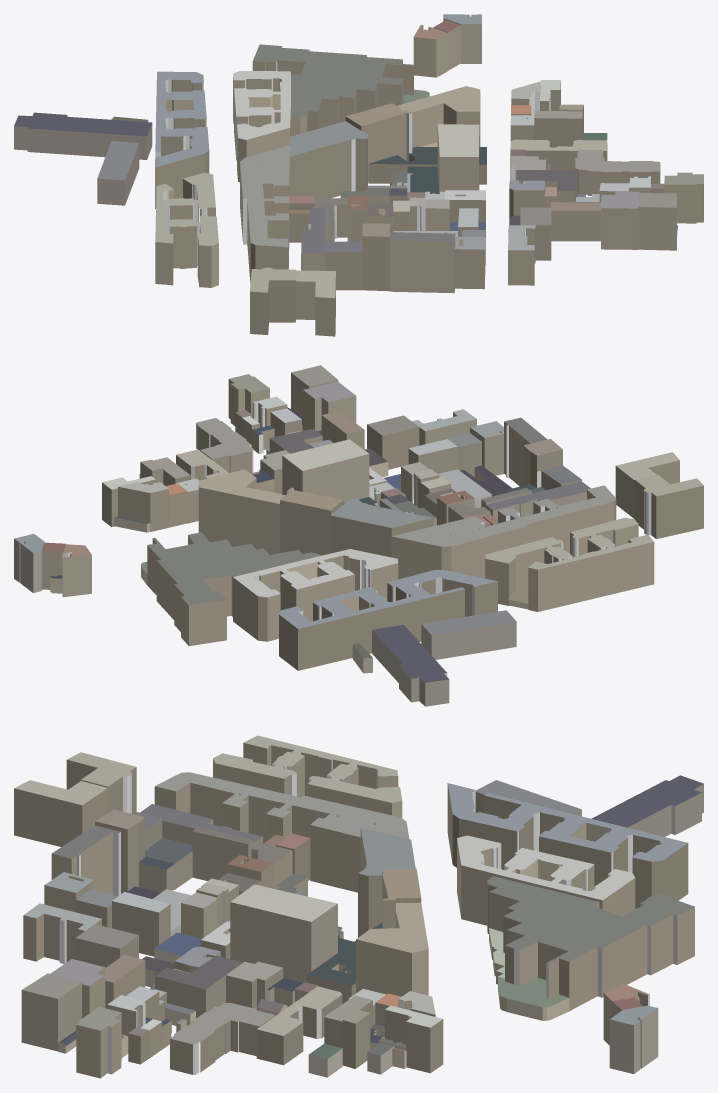
3 renders of one model, top to bottom at view 1: azimuth 30°, elevation 25°; view 2: azimuth 150°, elevation 25°; view 3: azimuth 270°, elevation 25°, orthographic. The views are drawn at different scales.
Parts seen in each view (by area): view 1: tuile; view 2: tuile; view 3: tuile.
Boxes of the visible parts, bbox=[...] form: tuile: bbox=[14, 14, 703, 336]; tuile: bbox=[14, 365, 703, 706]; tuile: bbox=[14, 735, 703, 1078].
Size of the model in its own units: 285 by 34.95 by 286.
